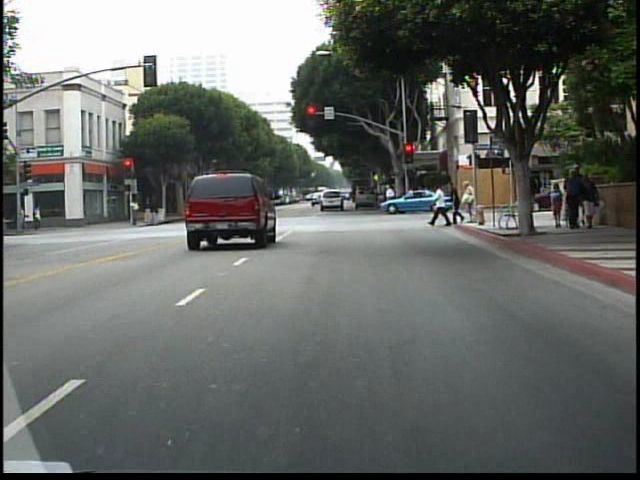person: (544, 180, 566, 232), (518, 169, 536, 229), (429, 182, 451, 229), (460, 179, 478, 228), (204, 183, 221, 227), (449, 182, 465, 225), (382, 179, 400, 217), (31, 200, 47, 239), (129, 196, 145, 226), (405, 182, 418, 216)
